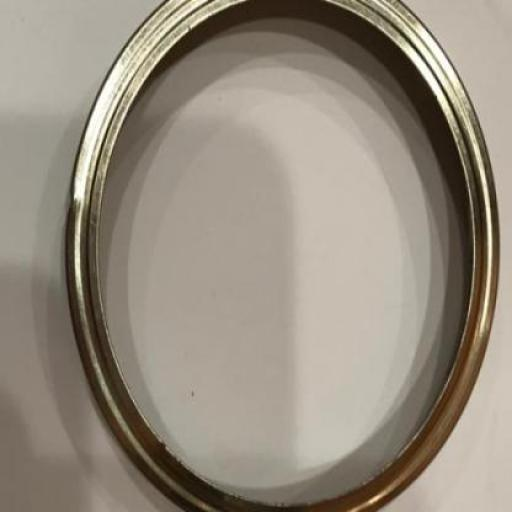metal: (67, 0, 500, 511)
